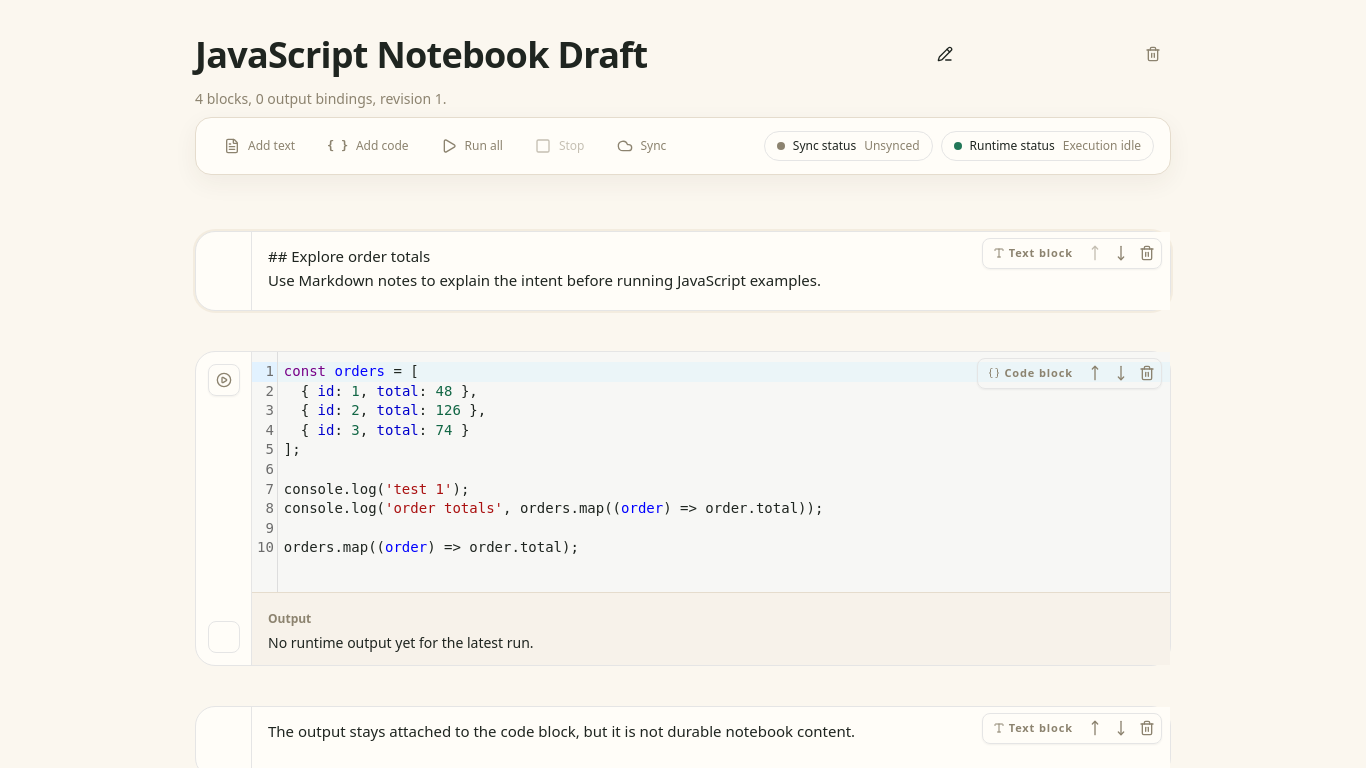
NotebookEditorView › deletes blocks and removes their output placeholders
This screenshot has width=1366, height=768.
Click the button named "Delete blk_prepare_data" at (1147, 373), box [1135,361,1159,385]
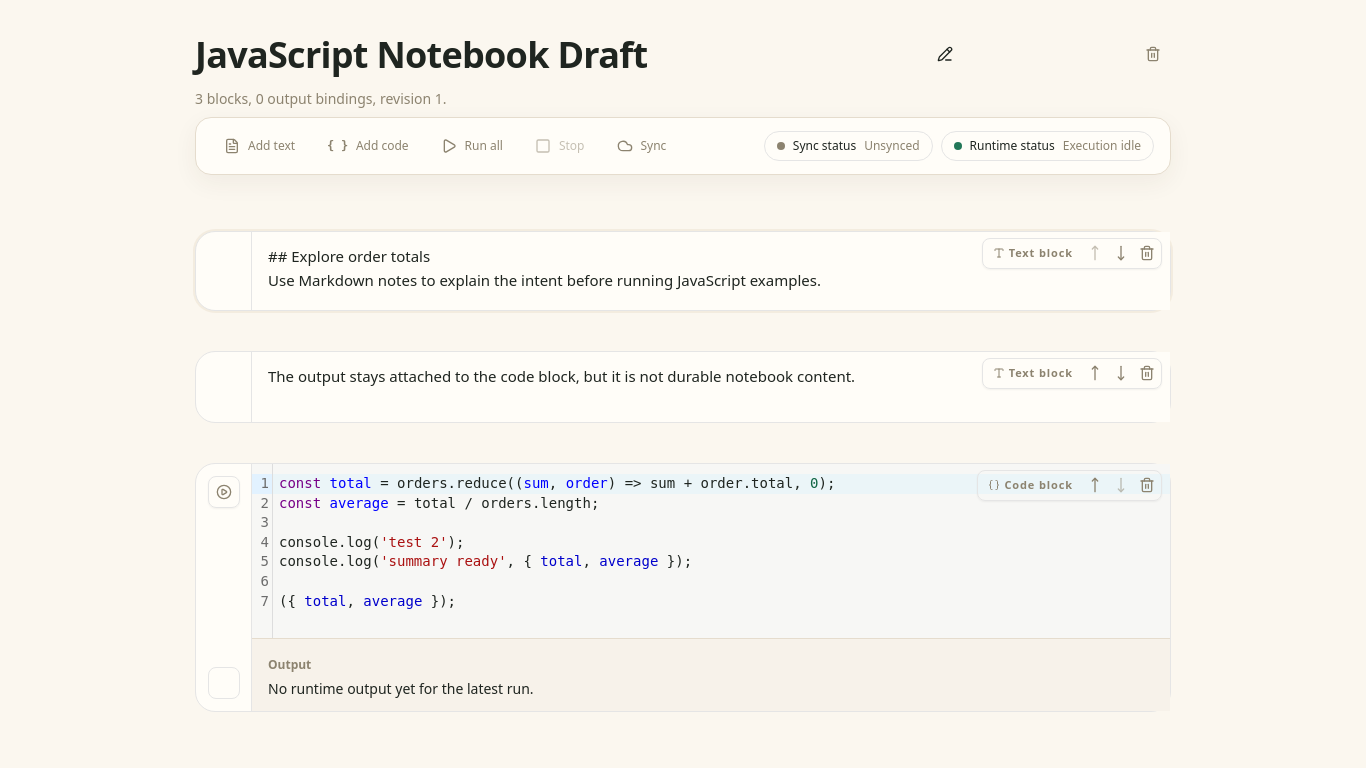
Result: the number of elements named "JavaScript code block" is 1 at [252,464,1170,711]
